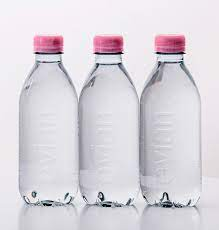PlasticBottle: (78, 32, 142, 209), (140, 32, 203, 206), (19, 31, 78, 207)
